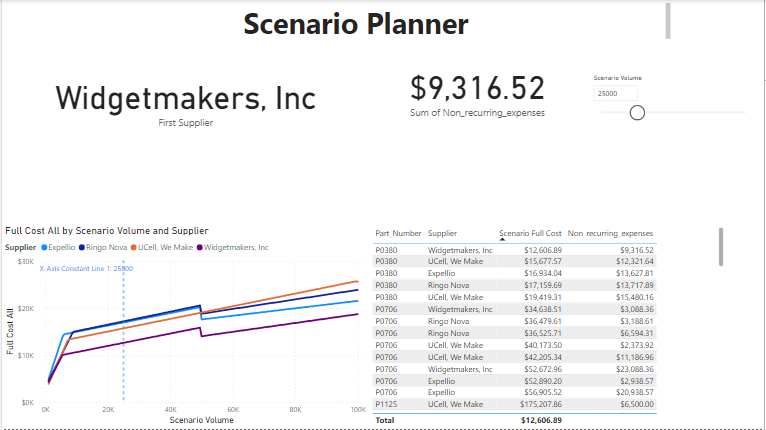

The page's visual inventory and layout, read from the dashboard file:
{"tool":"powerbi","page":{"name":"Scenario Analysis","canvas":[1280,720],"ordinal":1},"visuals":[{"type":"slicer","fields":{"Values":["Scenario Volume.Scenario Volume"]},"box":[981,119.3,290.6,132.7],"z":0},{"type":"tableEx","fields":{"Values":["Quotes.Part_Number","Quotes.Supplier","Scenario Volume.Scenario Full Cost","Quotes.Non_recurring_expenses"]},"box":[616.5,376.3,601.4,342.7],"z":1000},{"type":"textbox","box":[68.8,0,1059,72.1],"z":2000},{"type":"card","fields":{"Values":["Sum(Quotes.Non_recurring_expenses)"]},"box":[616.5,84,364.5,132.7],"z":3000},{"type":"lineChart","fields":{"Y":["Scenario Volumes(All).Full Cost All"],"Category":["Scenario Volumes(All).Scenario Volume"],"Series":["Quotes.Supplier"]},"box":[0,376.3,616.5,342.7],"z":4000},{"type":"card","fields":{"Values":["Min(Quotes.Supplier)"]},"box":[0,84,616.5,168],"z":5000}]}

Visuals, with their boxes in screenshot pixels (x1, y1, x2, y2), scaled from the page's 1280x720 canvas onto the 766x430 screenshot:
slicer - Scenario Volume.Scenario Volume: (587,71,761,150)
tableEx - Quotes.Part_Number x Quotes.Supplier: (369,225,729,429)
textbox: (41,0,675,43)
card - Sum(Quotes.Non_recurring_expenses): (369,50,587,129)
lineChart - Scenario Volumes(All).Full Cost All x Scenario Volumes(All).Scenario Volume: (0,225,369,429)
card - Min(Quotes.Supplier): (0,50,369,150)
